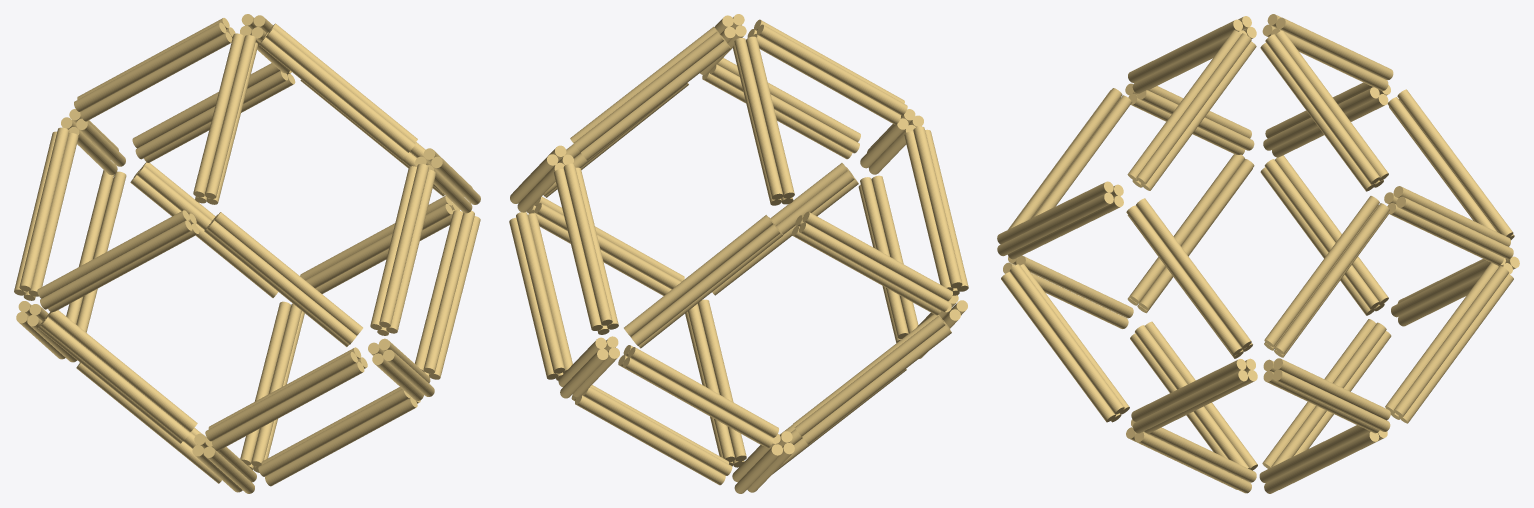
3 views of the same model, side by side, from view 1: azimuth 30°, elevation 25°; view 2: azimuth 150°, elevation 25°; view 3: azimuth 270°, elevation 25° (orthographic).
Parts seen in each view (by area): view 1: Cylinder.038, Cylinder.083, Cylinder.054, Cylinder.056, Cylinder.096, Cylinder.103, Cylinder.040, Cylinder.078, Cylinder.100, Cylinder.066, Cylinder.034, Cylinder.015 (+44 smaller); view 2: Cylinder.028, Cylinder.090, Cylinder.071, Cylinder.069, Cylinder.068, Cylinder.033, Cylinder.095, Cylinder.093, Cylinder.101, Cylinder.057, Cylinder.039, Cylinder.063 (+43 smaller); view 3: Cylinder.062, Cylinder.037, Cylinder.060, Cylinder.087, Cylinder.029, Cylinder.084, Cylinder.074, Cylinder.072, Cylinder.069, Cylinder.086, Cylinder.081, Cylinder.009 (+49 smaller).
Part boxes in pixels (x1,y1,x2,y2): Cylinder.038: (266,28,415,152); Cylinder.083: (207,220,356,344); Cylinder.054: (40,317,189,441); Cylinder.056: (48,310,197,432); Cylinder.096: (205,352,357,441); Cylinder.103: (40,220,192,309); Cylinder.040: (74,22,226,111); Cylinder.078: (379,163,428,327); Cylinder.100: (212,361,364,450); Cylinder.066: (19,127,69,291); Cylinder.034: (205,35,256,198); Cylinder.015: (258,389,410,476); Cylinder.028: (573,31,723,152); Cylinder.090: (794,316,945,436); Cylinder.071: (631,224,780,345); Cylinder.069: (624,215,773,336); Cylinder.068: (799,222,949,312); Cylinder.033: (756,24,907,115); Cylinder.095: (623,357,773,447); Cylinder.093: (628,347,778,437); Cylinder.101: (913,126,962,288); Cylinder.057: (563,163,612,325); Cylinder.039: (734,38,783,199); Cylinder.063: (516,212,564,373); Cylinder.062: (1274,203,1389,354); Cylinder.037: (1136,33,1251,184); Cylinder.060: (1264,196,1379,346); Cylinder.087: (1393,266,1508,417); Cylinder.029: (1265,34,1380,184); Cylinder.084: (1009,264,1124,414); Cylinder.074: (1126,205,1242,355); Cylinder.072: (1136,198,1251,348); Cylinder.069: (1397,89,1513,237); Cylinder.086: (1001,272,1115,422); Cylinder.081: (1009,88,1122,228); Cylinder.009: (1387,97,1496,231).
Bounding box in the file's own units: 18.41 × 18.17 × 18.6.
